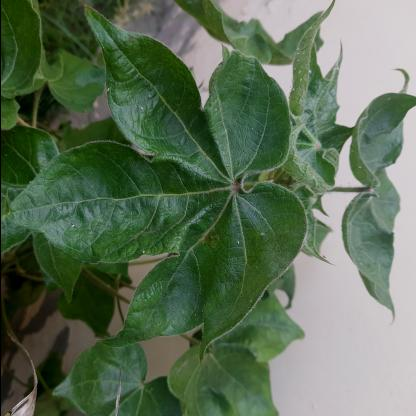curl_stage1: (126, 291, 169, 341), (231, 363, 267, 416), (243, 325, 281, 361), (165, 220, 191, 259)
curl_stage2: (353, 100, 403, 320), (290, 114, 336, 198), (287, 14, 318, 108)
healthy: (199, 89, 275, 162), (61, 141, 120, 226), (121, 60, 180, 133), (222, 190, 286, 257), (77, 350, 131, 404), (169, 257, 207, 308)
